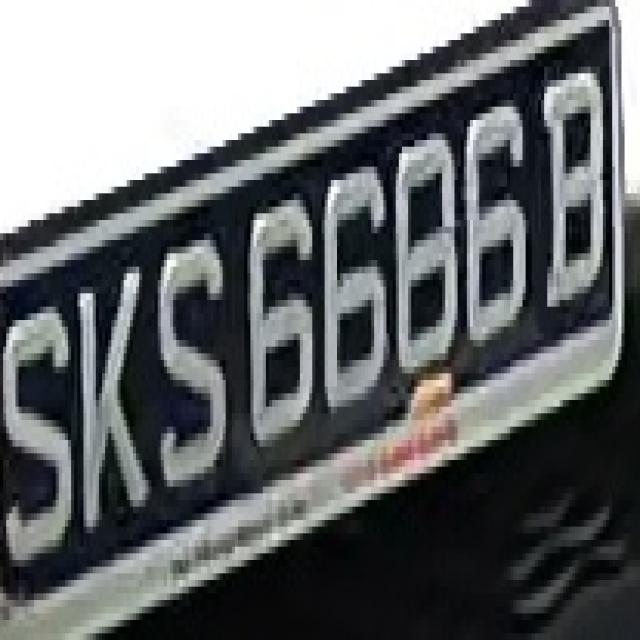6: (309, 160, 393, 420), (457, 100, 535, 367), (242, 173, 316, 447)
8: (392, 120, 460, 393)
B: (541, 47, 615, 313)
K: (74, 267, 155, 560)
S: (145, 220, 238, 513), (9, 274, 78, 574)
